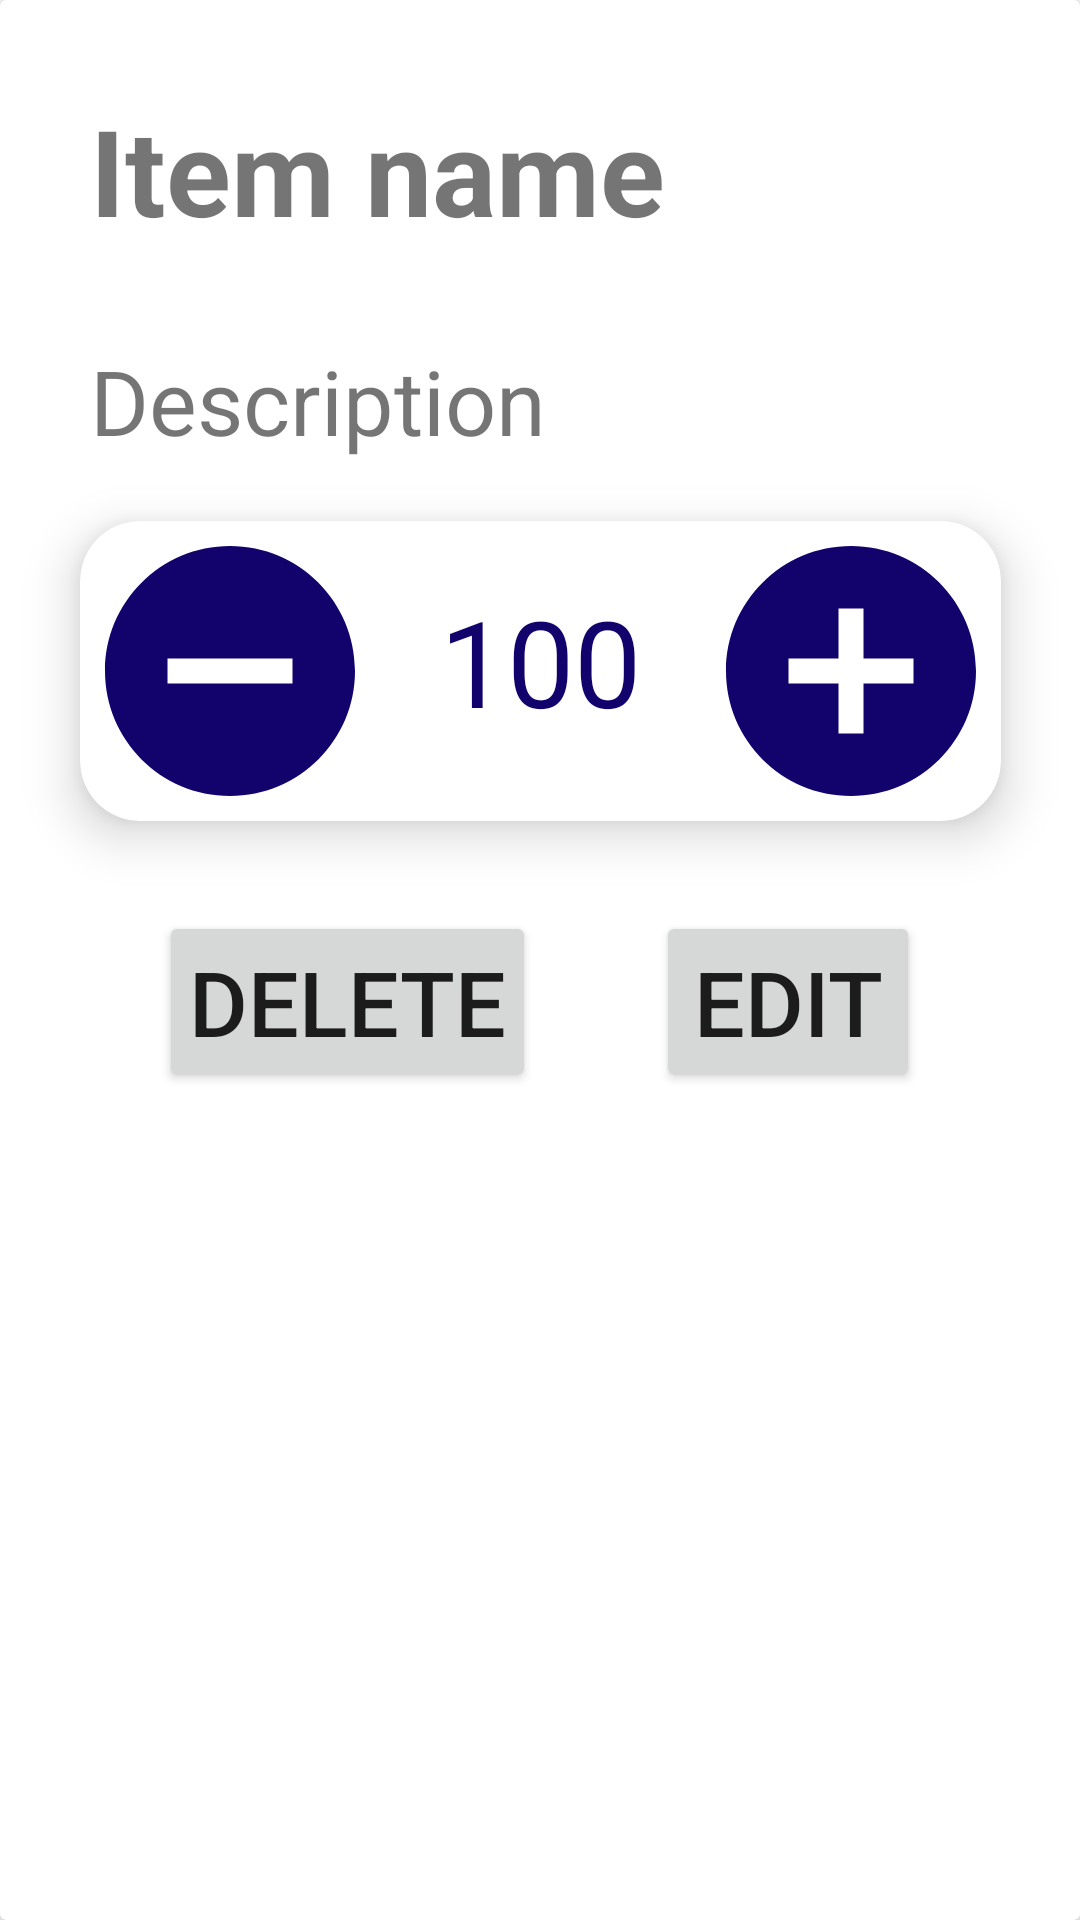

Where to tap for icons on this 1080px x 1920px app screen, as (x=x, y=y):
add circle: (x=851, y=671)
remove circle: (x=230, y=671)
